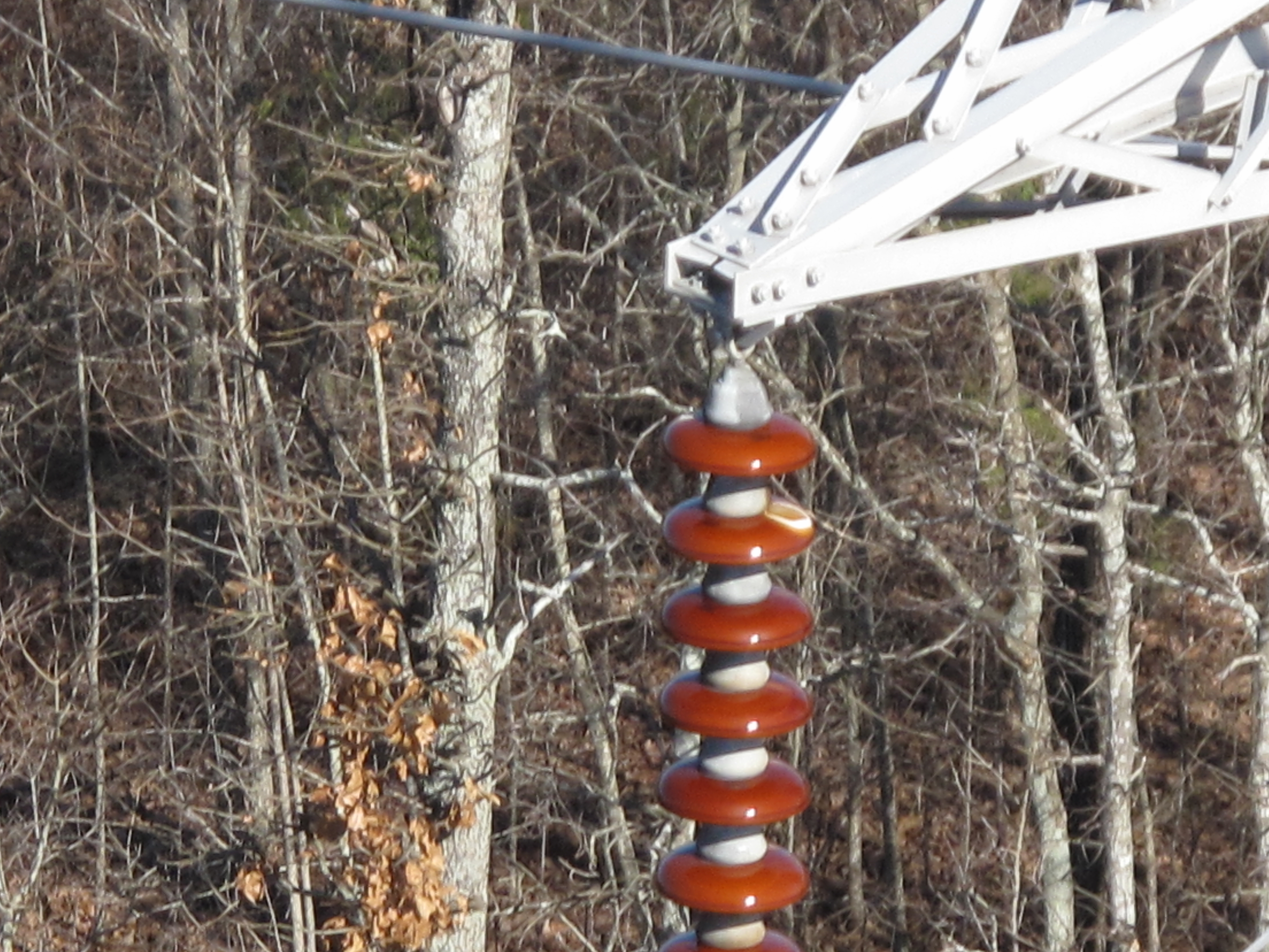Flashover: (753, 490, 812, 536)
insulator: (646, 403, 819, 952)
